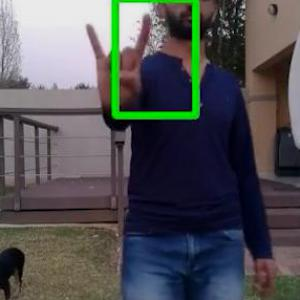takeoff-hand: (79, 5, 156, 112)
